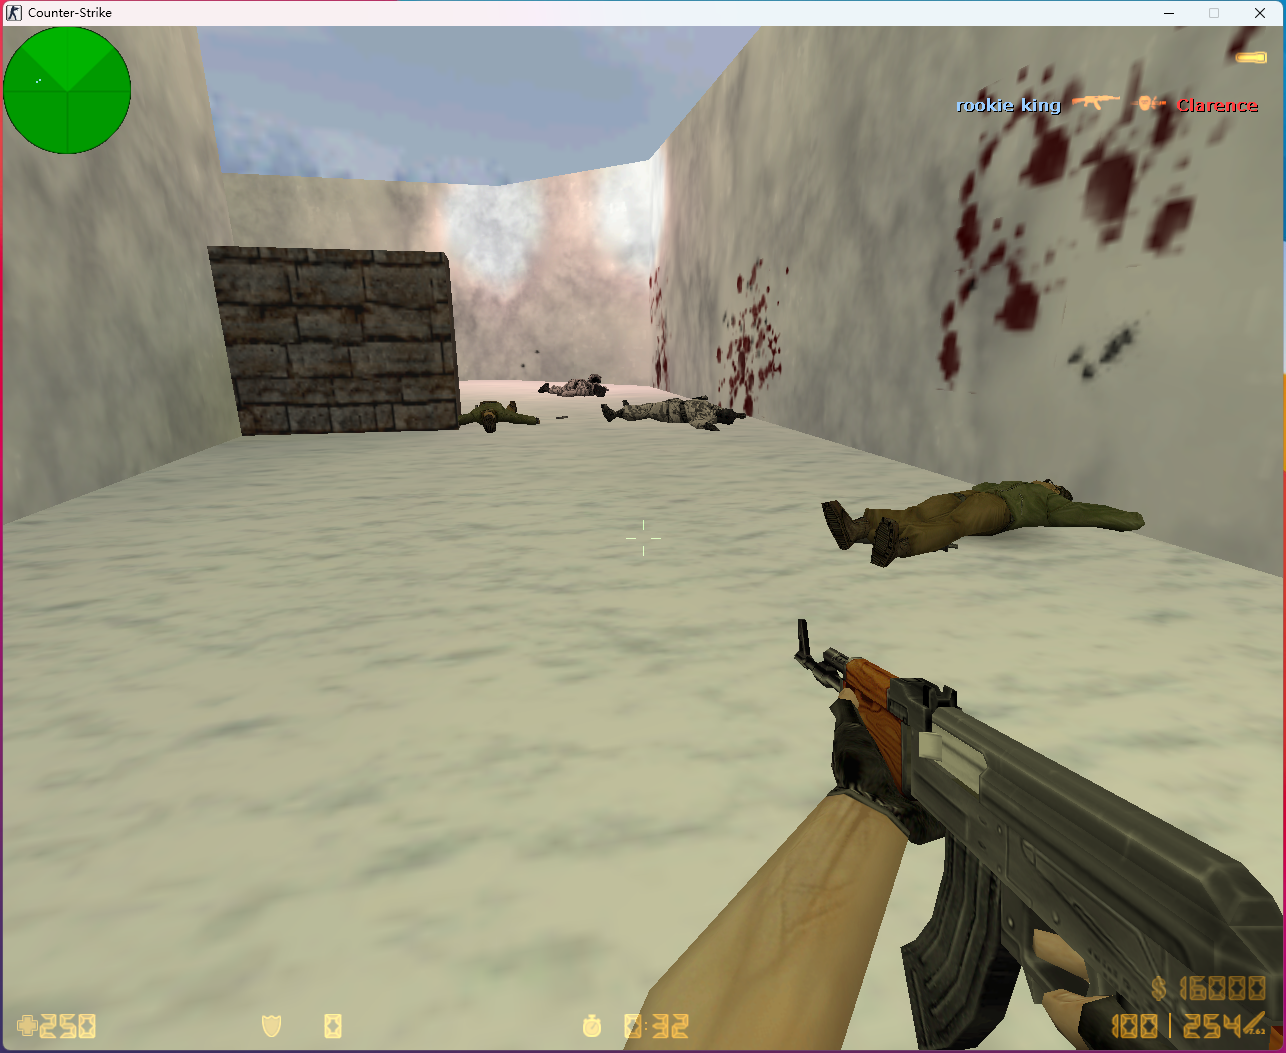dead: (814, 471, 1147, 569), (599, 396, 738, 433), (448, 398, 542, 434), (534, 375, 605, 398)
